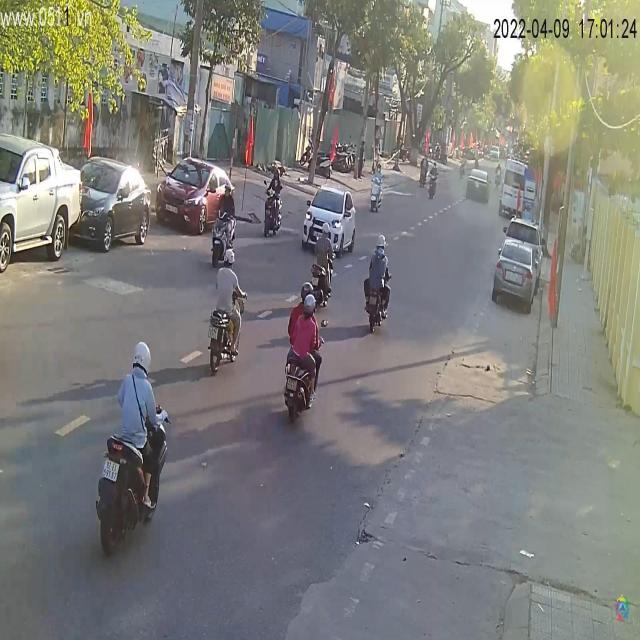car: (1, 130, 83, 278), (73, 158, 154, 253), (156, 160, 234, 235), (492, 222, 543, 316), (301, 184, 356, 255)
motorcycle: (97, 434, 158, 557), (284, 349, 320, 421), (209, 308, 241, 372), (363, 270, 391, 331), (210, 218, 239, 269), (263, 191, 283, 236), (369, 172, 385, 212), (428, 174, 438, 200)
